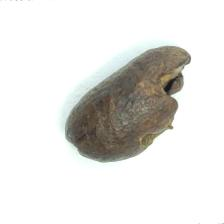NG: (142, 45, 192, 148)
